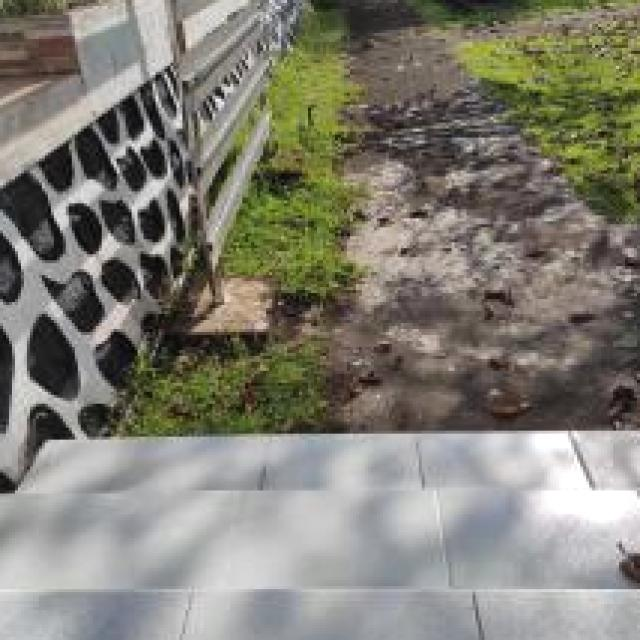downstair: (1, 425, 640, 640)
